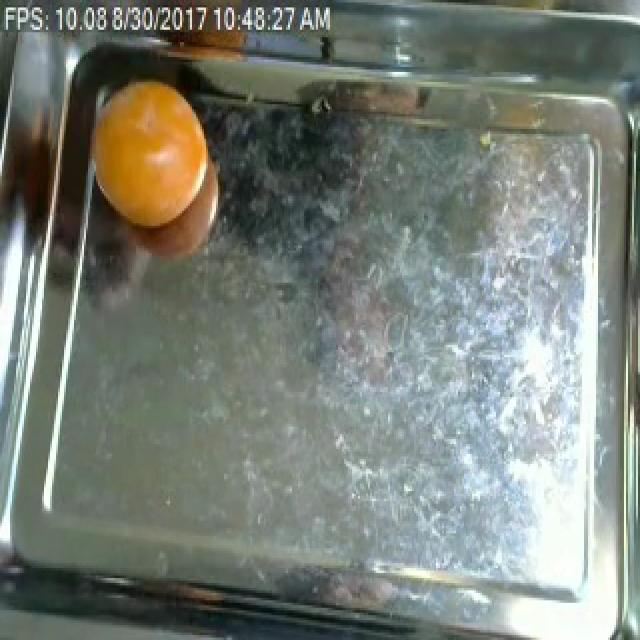Fruit: (80, 70, 218, 236)
